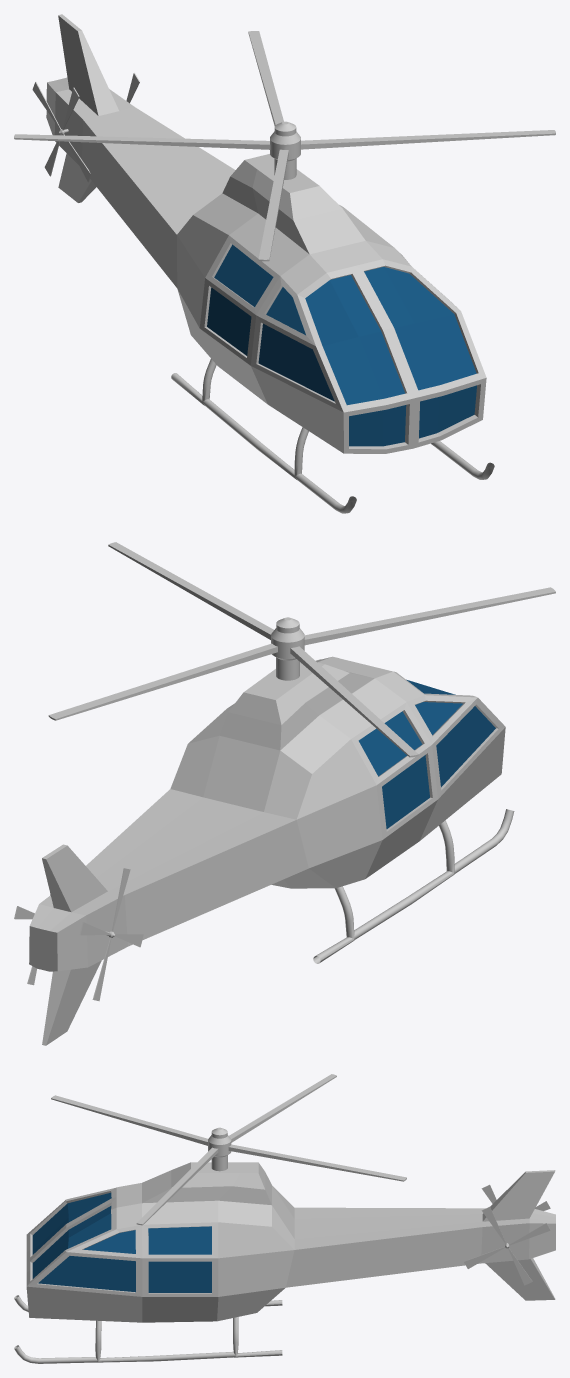
File: helicopter_animation_000061.obj
3 views of the same model, one above another, from view 1: azimuth 30°, elevation 25°; view 2: azimuth 150°, elevation 25°; view 3: azimuth 270°, elevation 25° (orthographic). The views are drawn at different scales.
Visible parts, largest first — view 1: Helicopter.007_Cylinder.008, Helicopter.001_Cylinder.001, Helicopter.004_Cylinder.005; view 2: Helicopter.007_Cylinder.008, Helicopter.001_Cylinder.001, Helicopter.004_Cylinder.005; view 3: Helicopter.007_Cylinder.008, Helicopter.001_Cylinder.001, Helicopter.003_Cylinder.004.
Part boxes in pixels (left/top/right/bottom): Helicopter.007_Cylinder.008: left=46, top=14, right=494, bottom=513; Helicopter.001_Cylinder.001: left=14, top=31, right=555, bottom=261; Helicopter.004_Cylinder.005: left=32, top=81, right=90, bottom=182; Helicopter.007_Cylinder.008: left=29, top=656, right=514, bottom=1045; Helicopter.001_Cylinder.001: left=48, top=542, right=555, bottom=757; Helicopter.004_Cylinder.005: left=79, top=868, right=143, bottom=1001; Helicopter.007_Cylinder.008: left=14, top=1162, right=555, bottom=1363; Helicopter.001_Cylinder.001: left=51, top=1074, right=406, bottom=1225; Helicopter.003_Cylinder.004: left=464, top=1206, right=550, bottom=1285.
Size of the model in its own units: 4.91 by 3.2 by 7.49.
